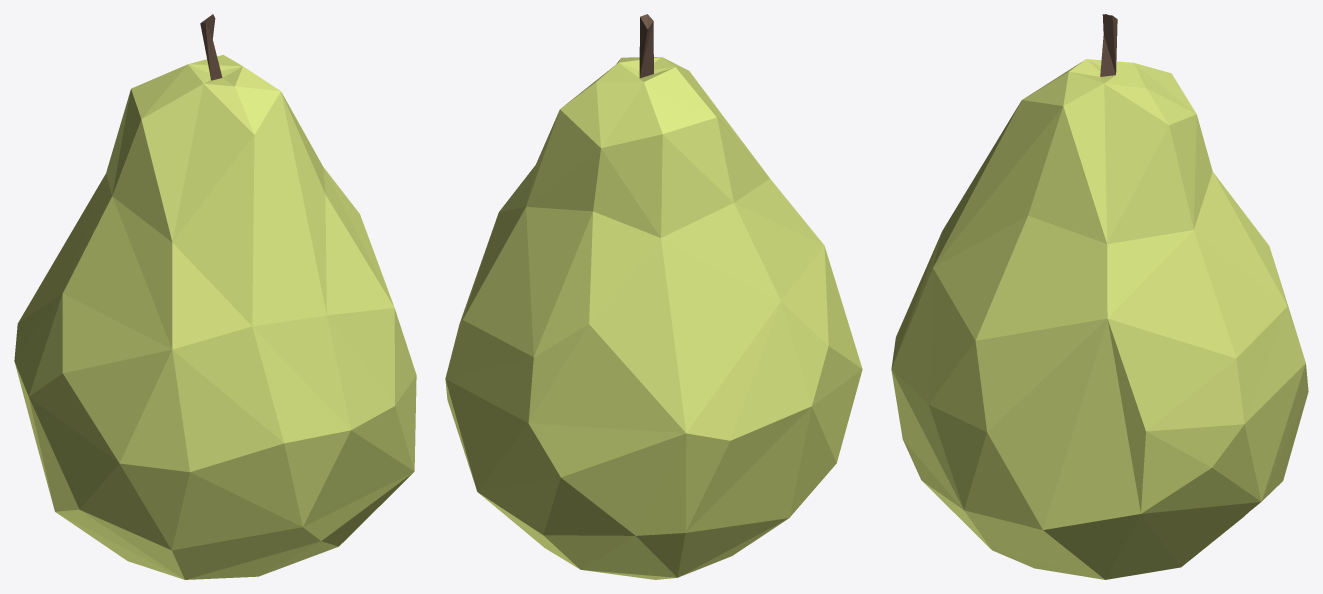
File: pear.fbx
The picture shows the model from 3 angles, left to right: view 1: azimuth 30°, elevation 25°; view 2: azimuth 150°, elevation 25°; view 3: azimuth 270°, elevation 25°; orthographic projection.
Parts seen in each view (by area): view 1: pear; view 2: pear; view 3: pear.
Part boxes in pixels (x1,y1,x2,y2): pear: (14,14,416,579); pear: (445,14,862,579); pear: (891,14,1308,579).
Size of the model in its own units: 1.58 by 2.31 by 1.67.
